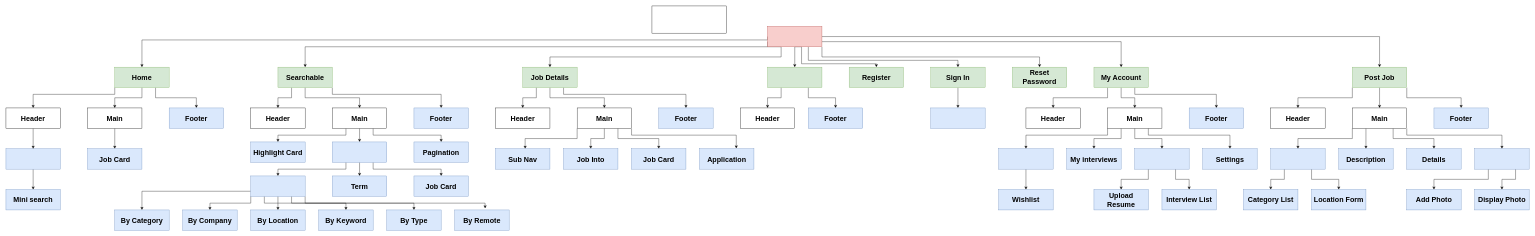
Some shapes in this 1535 by 236 pixel diagram are drawn without their labels. Each missing label, with the centre of its shape:
"App" goes at point (794, 36).
"color red: root color green: page color blue: component" goes at point (689, 19).
"Contact" goes at point (794, 77).
"Create a Job" goes at point (1297, 158).
"Dashboard" goes at point (1025, 158).
"Filterable Job" goes at point (359, 152).
"Filtered Term" goes at point (277, 186).
"Map banner" goes at point (33, 158).
"Media" goes at point (1501, 158).
"My Resume" goes at point (1161, 158).
"Sign In Form" goes at point (957, 118).
